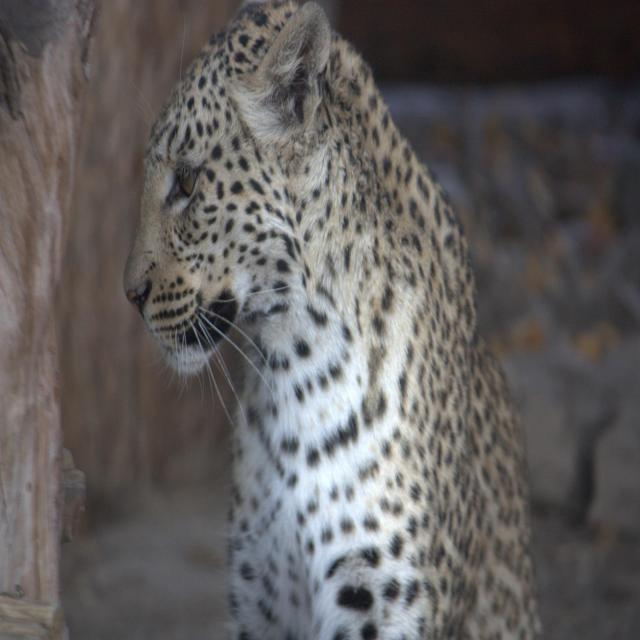Leopard: (116, 0, 542, 640)
